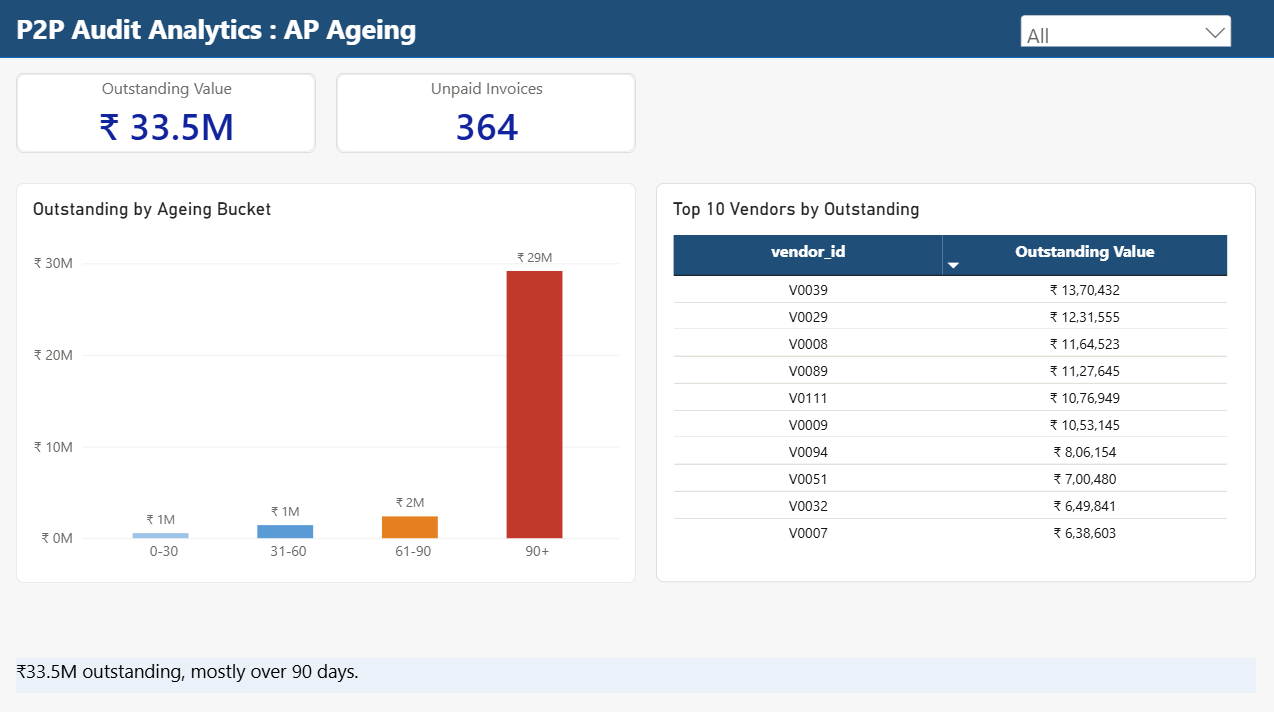

Layout of this report page (visuals, bound fields, positions):
{"tool":"powerbi","page":{"name":"AP Ageing","canvas":[1280,720],"ordinal":2},"visuals":[{"type":"clusteredColumnChart","title":"Outstanding by Ageing Bucket","fields":{"Category":["invoice_flags.Ageing Bucket"],"Y":["invoice_flags.Outstanding Value"]},"box":[20,185,620,400],"z":0},{"type":"cardVisual","fields":{"Data":["invoice_flags.Outstanding Value"]},"box":[20,75,300,80],"z":2000},{"type":"cardVisual","fields":{"Data":["invoice_flags.\\Unpaid Invoices"]},"box":[340,75,300,80],"z":3000},{"type":"textbox","box":[20.6,660,1240,35],"z":4000},{"type":"shape","box":[0,0,1280,60],"z":4001},{"type":"slicer","fields":{"Values":["vendors.category"]},"box":[1020,12.5,220,36],"z":4002},{"type":"textbox","box":[20,12,967,57],"z":4003},{"type":"tableEx","title":"Top 10 Vendors by Outstanding","fields":{"Values":["invoice_flags.vendor_id","invoice_flags.Outstanding Value"]},"box":[660,185.2,600,399.3],"z":4004}]}

Visuals, with their boxes in screenshot pixels (x1, y1, x2, y2), scaled from the page's 1280x720 canvas onto the 1274x712 screenshot:
"Outstanding by Ageing Bucket" clusteredColumnChart: crop(20, 183, 637, 578)
cardVisual - invoice_flags.Outstanding Value: crop(20, 74, 318, 153)
cardVisual - invoice_flags.\Unpaid Invoices: crop(338, 74, 637, 153)
textbox: crop(21, 653, 1255, 687)
shape: crop(0, 0, 1273, 59)
slicer - vendors.category: crop(1015, 12, 1234, 48)
textbox: crop(20, 12, 982, 68)
"Top 10 Vendors by Outstanding" tableEx: crop(657, 183, 1254, 578)
